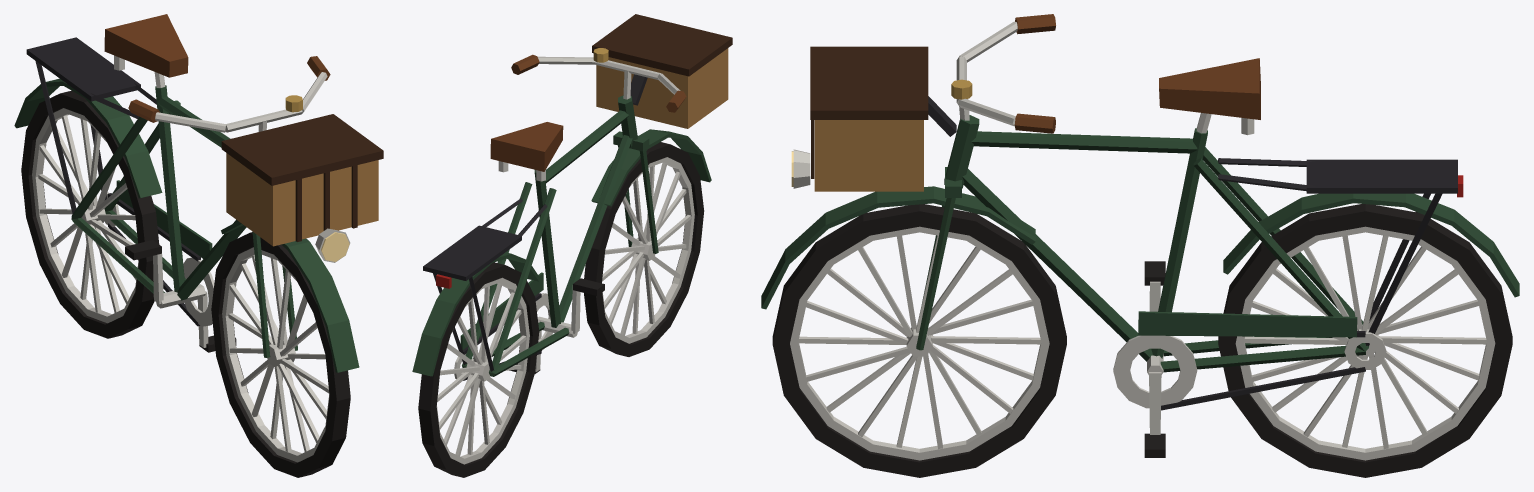
File: bicycle.glb
The picture shows the model from 3 angles, left to right: view 1: azimuth 30°, elevation 25°; view 2: azimuth 150°, elevation 25°; view 3: azimuth 270°, elevation 25°; orthographic projection. The views are drawn at different scales.
Visible parts, largest first — view 1: steer, bicycle_body, wheel_front, wheel_rear, pedals; view 2: bicycle_body, steer, wheel_front, wheel_rear, pedals; view 3: bicycle_body, wheel_front, wheel_rear, steer, pedals.
Boxes of the visible parts, <box> form: steer: <box>128,56,383,372</box>; bicycle_body: <box>14,14,246,326</box>; wheel_front: <box>211,232,350,477</box>; wheel_rear: <box>21,90,159,338</box>; pedals: <box>125,240,236,352</box>; bicycle_body: <box>412,95,637,380</box>; steer: <box>511,14,732,253</box>; wheel_front: <box>584,142,704,356</box>; wheel_rear: <box>418,262,539,477</box>; pedals: <box>509,278,604,373</box>; bicycle_body: <box>944,58,1519,410</box>; wheel_front: <box>772,204,1066,477</box>; wheel_rear: <box>1218,204,1512,477</box>; steer: <box>761,14,1055,350</box>; pedals: <box>1113,261,1197,457</box>.
Size of the model in its own units: 0.619 by 1.07 by 1.8.
